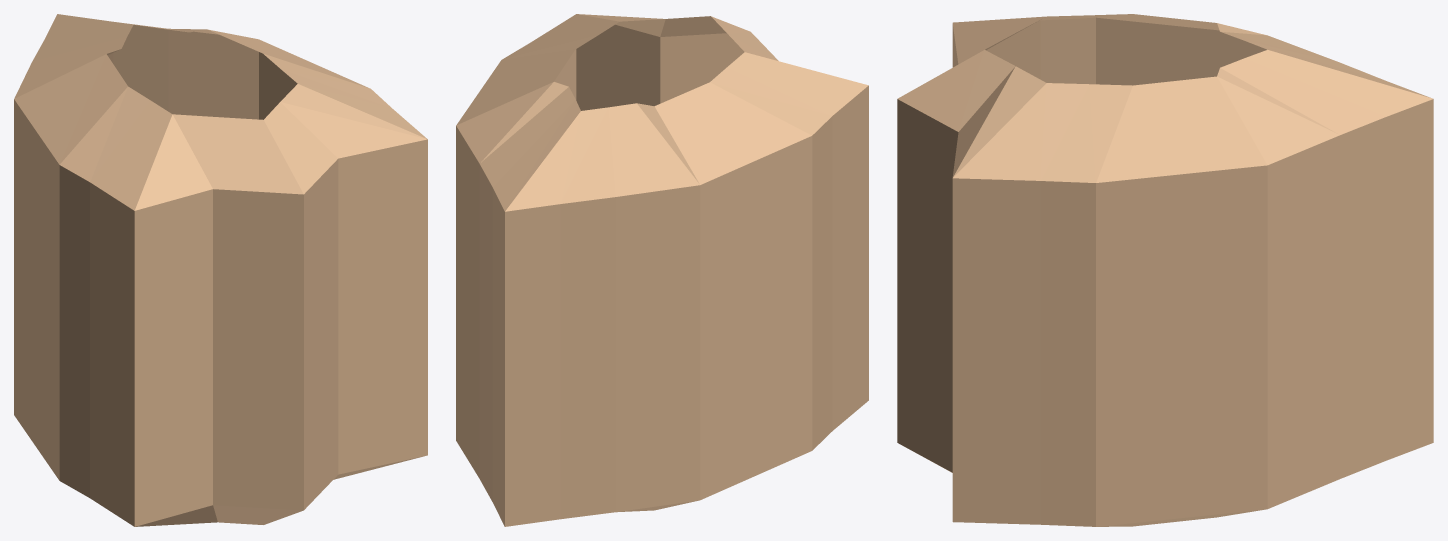
Rendered from Neck_mesh.dae.
The picture shows the model from 3 angles, left to right: view 1: azimuth 30°, elevation 25°; view 2: azimuth 150°, elevation 25°; view 3: azimuth 270°, elevation 25°; orthographic projection. The views are drawn at different scales.
Parts seen in each view (by area): view 1: Neck; view 2: Neck; view 3: Neck.
Boxes of the visible parts, x1,y1,x2,y2 form: Neck: [14, 14, 427, 526]; Neck: [456, 14, 868, 526]; Neck: [897, 14, 1433, 526].
Size of the model in its own units: 0.1198 by 0.1489 by 0.1642.
